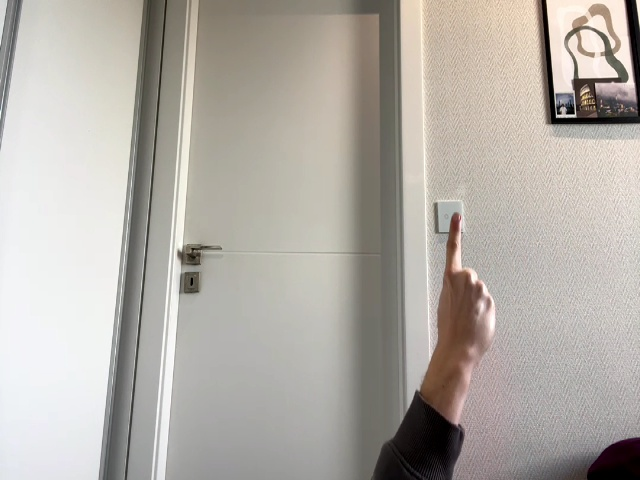D: (438, 213, 495, 366)
